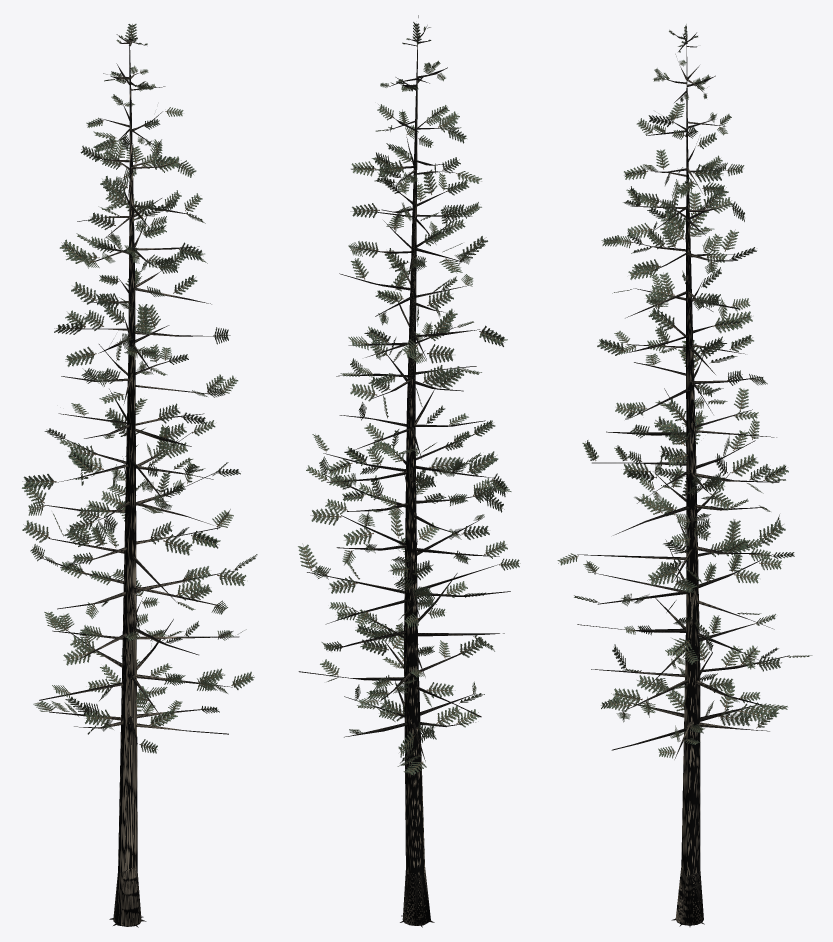
The model's file is Sitka_Mature_03_Unpruned_LOD2.fbx.
The picture shows the model from 3 angles, left to right: view 1: azimuth 30°, elevation 25°; view 2: azimuth 150°, elevation 25°; view 3: azimuth 270°, elevation 25°; orthographic projection.
Visible parts, largest first — view 1: Sitka_Mature_03_Unpruned_LOD2; view 2: Sitka_Mature_03_Unpruned_LOD2; view 3: Sitka_Mature_03_Unpruned_LOD2.
Part boxes in pixels (bbox=[...]): Sitka_Mature_03_Unpruned_LOD2: bbox=[22, 24, 257, 927]; Sitka_Mature_03_Unpruned_LOD2: bbox=[298, 15, 520, 927]; Sitka_Mature_03_Unpruned_LOD2: bbox=[557, 24, 812, 926].
Size of the model in its own units: 656 by 2400 by 641.
Materials: 2 (2 with a texture image).
